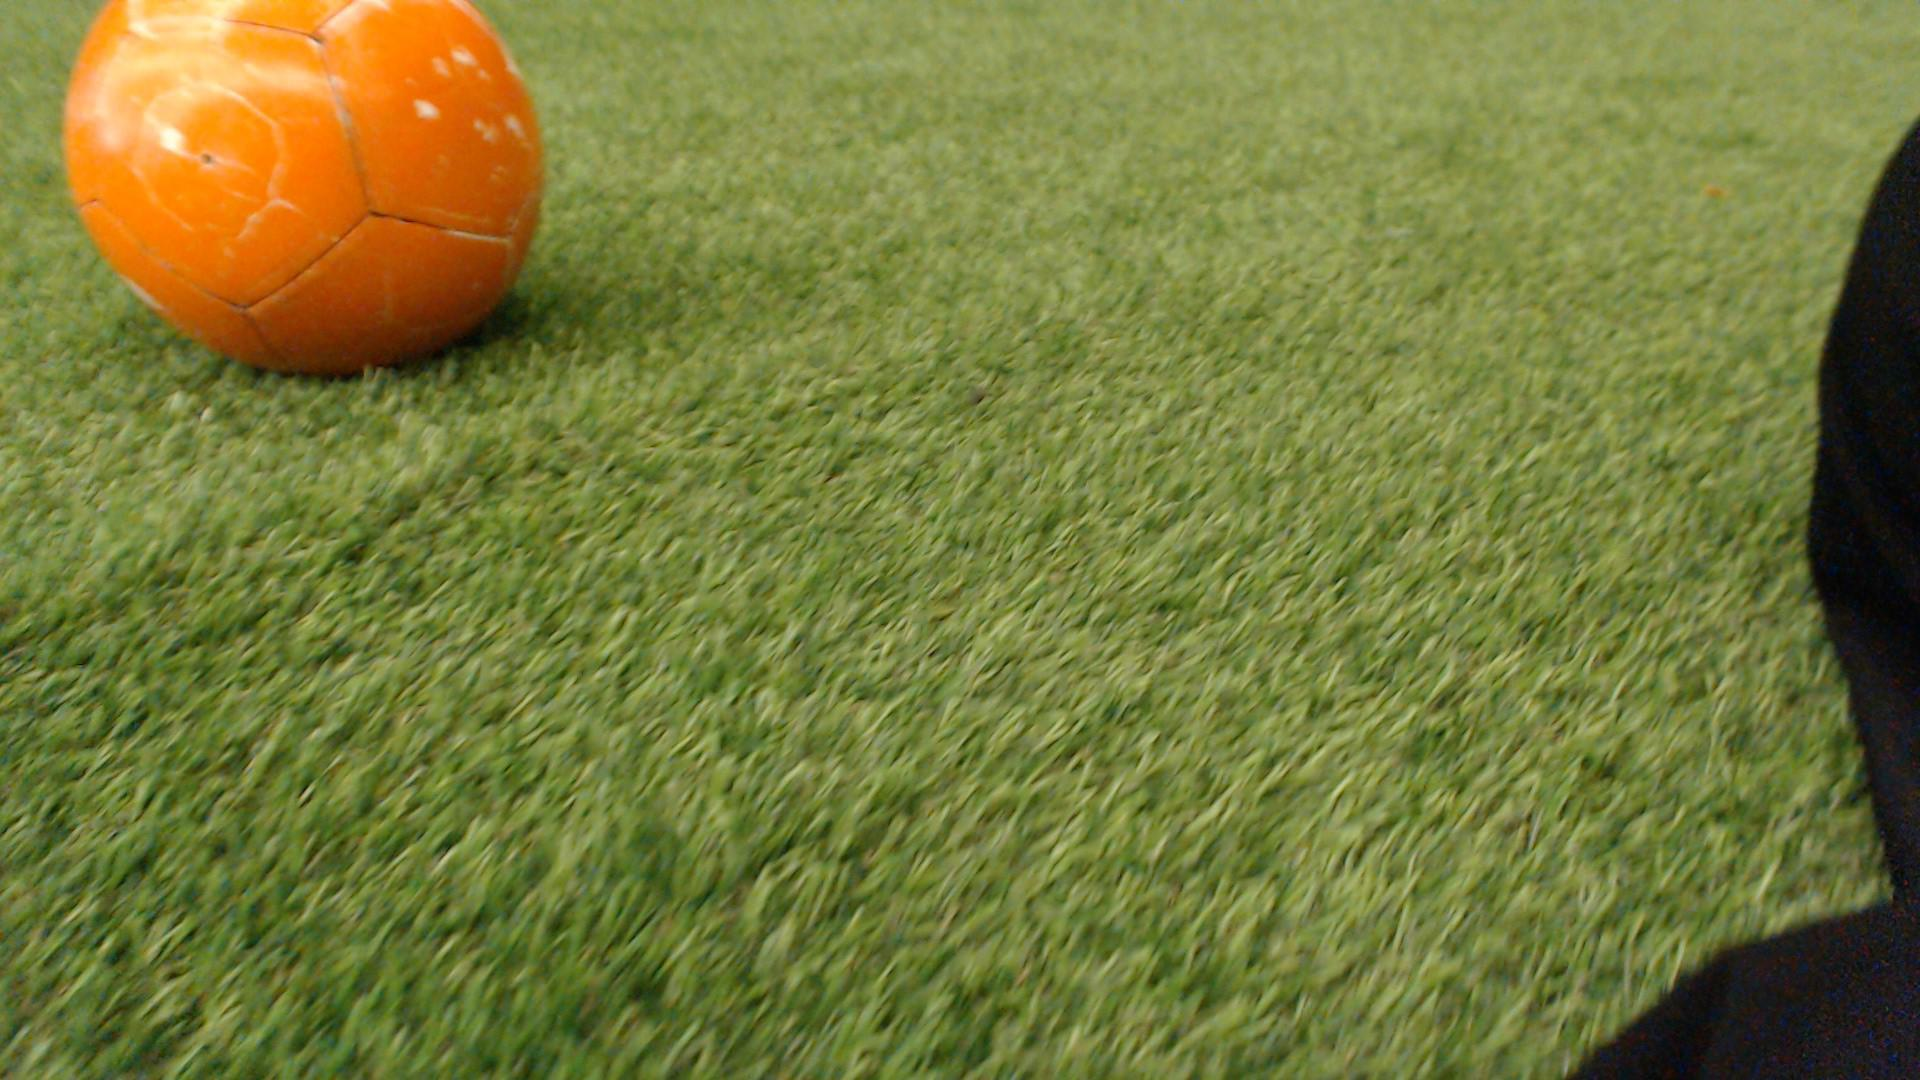bola: (34, 0, 599, 413)
